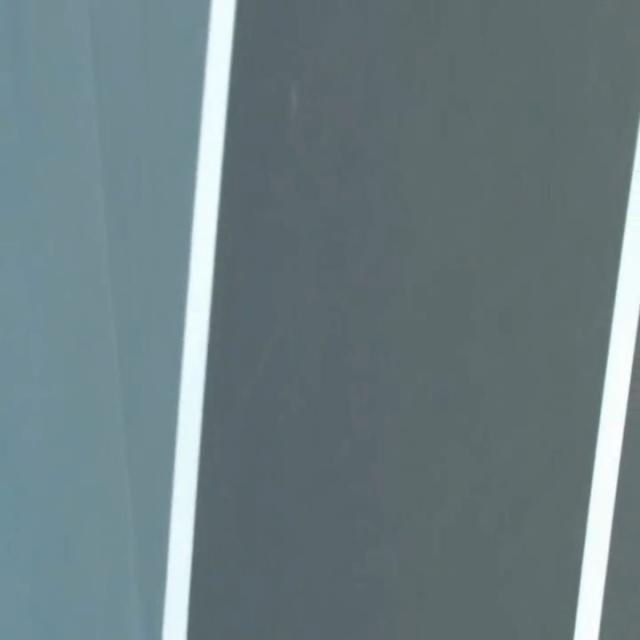center: (573, 121, 639, 639)
left: (162, 0, 236, 639)
